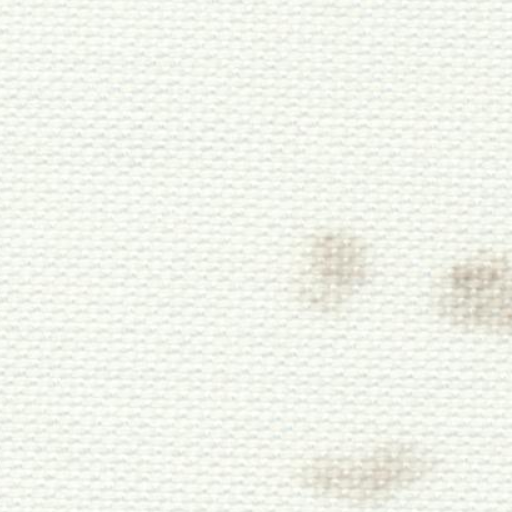WuZi: (282, 210, 382, 332), (297, 419, 436, 506), (440, 234, 508, 338)
